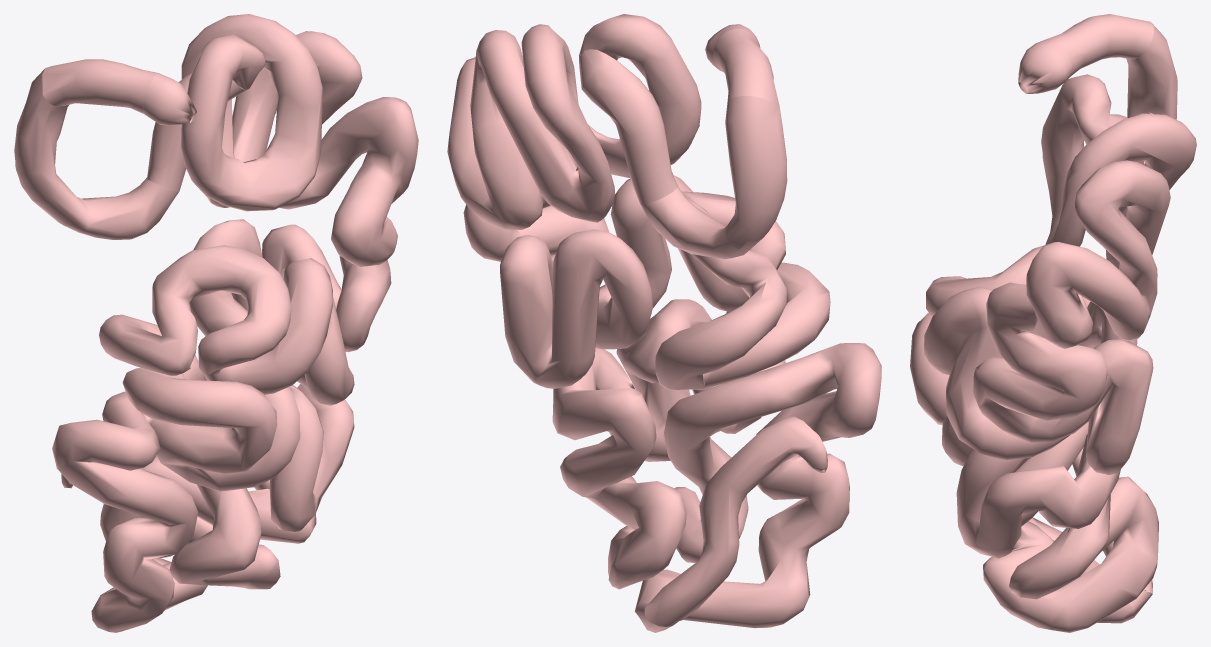
File: intestine_small.glb
The picture shows the model from 3 angles, left to right: view 1: azimuth 30°, elevation 25°; view 2: azimuth 150°, elevation 25°; view 3: azimuth 270°, elevation 25°; orthographic projection. The views are drawn at different scales.
Visible parts, largest first — view 1: VH_M_jejunum, VH_M_ileum, VH_M_duodenum_horizonal, VH_M_duodenum_superior, VH_M_duodenum_descending, VH_M_duodenum_ascending, VH_M_duodenal_ampulla, VH_M_ileum_terminal; view 2: VH_M_jejunum, VH_M_ileum, VH_M_ileum_terminal, VH_M_duodenum_descending, VH_M_duodenum_ascending, VH_M_duodenum_horizonal, VH_M_duodenum_superior; view 3: VH_M_jejunum, VH_M_ileum, VH_M_duodenum_superior, VH_M_duodenum_descending, VH_M_duodenal_ampulla.
Boxes of the visible parts, bbox=[...] form: VH_M_jejunum: bbox=[99, 14, 418, 405]; VH_M_ileum: bbox=[52, 367, 354, 632]; VH_M_duodenum_horizonal: bbox=[33, 177, 178, 239]; VH_M_duodenum_superior: bbox=[42, 59, 157, 113]; VH_M_duodenum_descending: bbox=[14, 69, 70, 201]; VH_M_duodenum_ascending: bbox=[147, 72, 245, 191]; VH_M_duodenal_ampulla: bbox=[143, 73, 196, 125]; VH_M_ileum_terminal: bbox=[61, 468, 157, 561]; VH_M_jejunum: bbox=[447, 14, 787, 390]; VH_M_ileum: bbox=[552, 262, 881, 632]; VH_M_ileum_terminal: bbox=[644, 416, 827, 626]; VH_M_duodenum_descending: bbox=[725, 96, 787, 249]; VH_M_duodenum_ascending: bbox=[579, 49, 677, 204]; VH_M_duodenum_horizonal: bbox=[641, 186, 762, 259]; VH_M_duodenum_superior: bbox=[713, 28, 779, 105]; VH_M_jejunum: bbox=[924, 74, 1196, 474]; VH_M_ileum: bbox=[910, 313, 1158, 632]; VH_M_duodenum_superior: bbox=[1050, 14, 1153, 77]; VH_M_duodenum_descending: bbox=[1126, 22, 1177, 119]; VH_M_duodenal_ampulla: bbox=[1018, 38, 1072, 93].
Size of the model in its own units: 0.1875 by 0.2652 by 0.1221.
